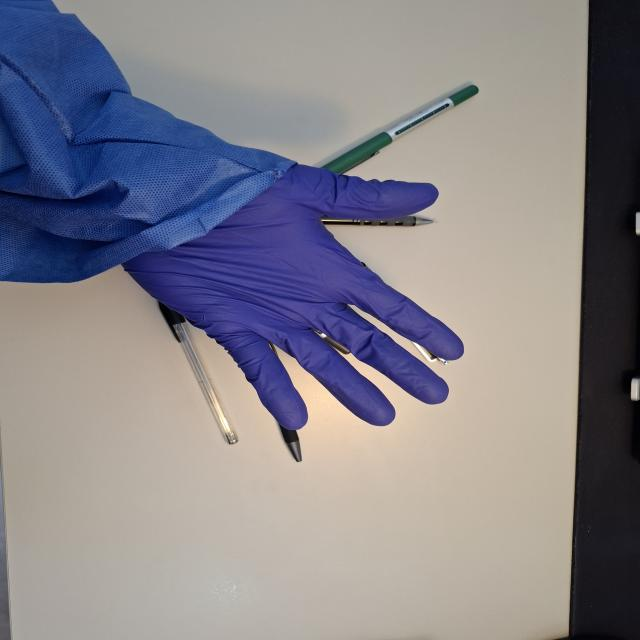glove_on: (117, 159, 470, 432)
